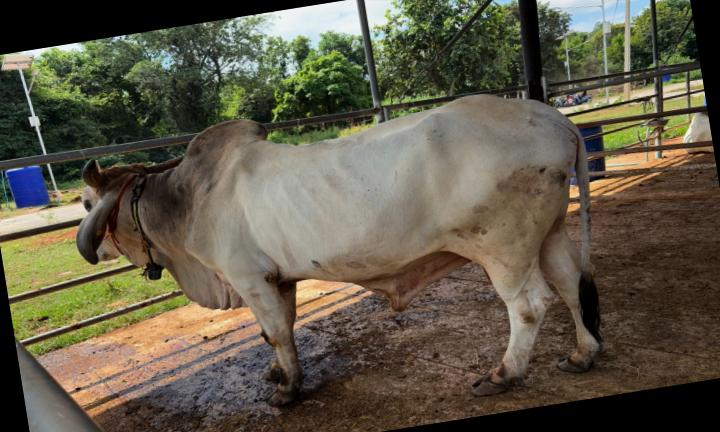Brahman: (76, 94, 605, 405)
